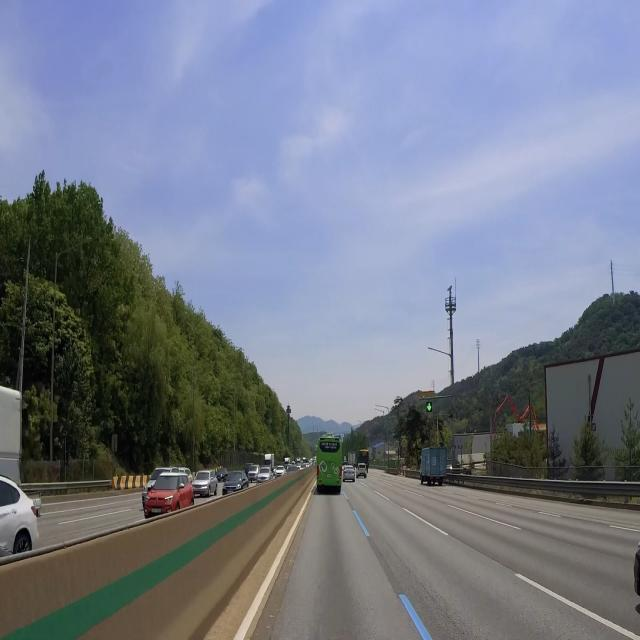car: (325, 472, 333, 484)
